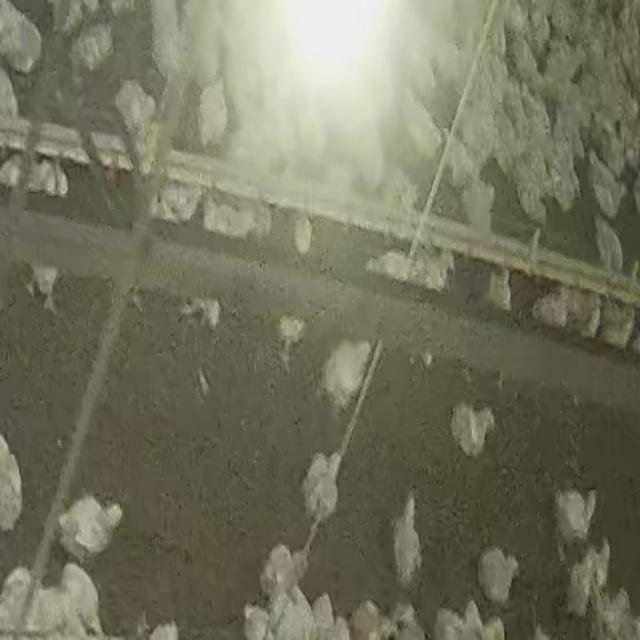chicken: (56, 492, 122, 562), (59, 559, 104, 640), (324, 339, 374, 407), (387, 493, 423, 586), (399, 84, 443, 160), (0, 3, 45, 75), (299, 451, 342, 524), (0, 152, 68, 198), (585, 149, 625, 223), (553, 483, 596, 551), (112, 78, 157, 142), (562, 543, 601, 616), (67, 19, 116, 75), (0, 430, 26, 535), (0, 570, 39, 640), (28, 588, 80, 640), (196, 77, 231, 148), (476, 547, 520, 603), (202, 202, 270, 238), (450, 405, 496, 455), (591, 213, 626, 274), (261, 542, 298, 596), (146, 185, 202, 220), (530, 286, 572, 328), (27, 264, 61, 314), (462, 181, 494, 232), (178, 295, 222, 332), (600, 302, 634, 349), (387, 598, 425, 640), (352, 597, 386, 640), (309, 593, 340, 638), (366, 249, 407, 281), (491, 267, 514, 314), (433, 604, 461, 640), (243, 601, 268, 640), (276, 314, 306, 346), (460, 600, 484, 640), (292, 215, 314, 254), (483, 614, 506, 640)
